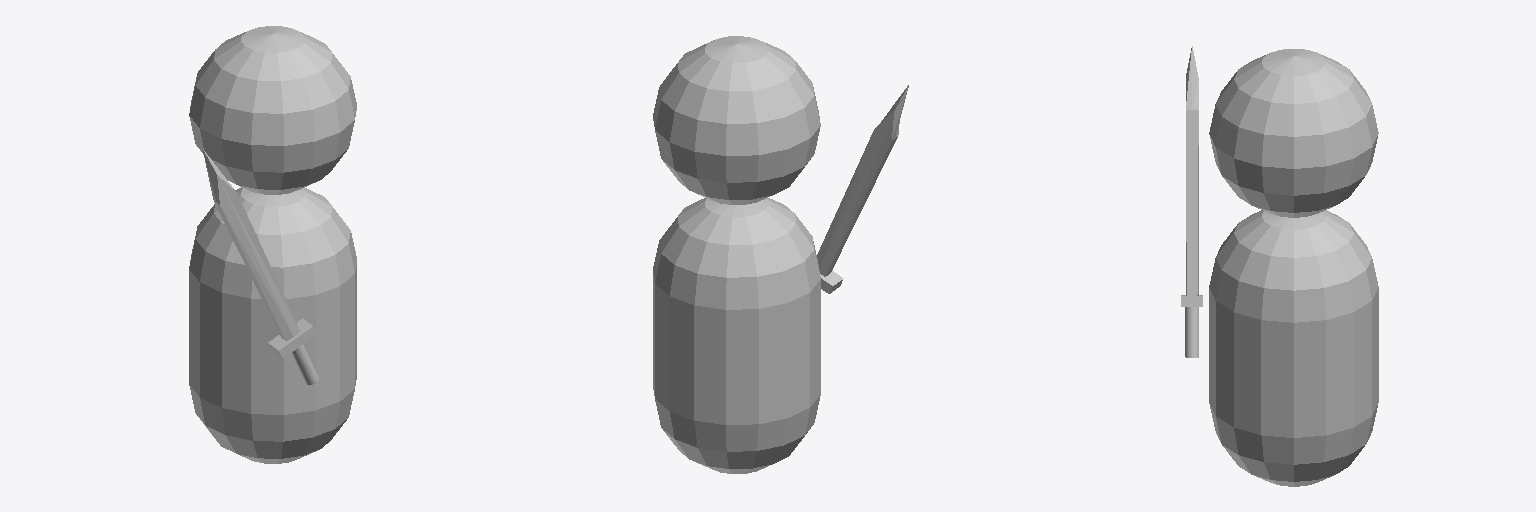
File: sword_guy.obj
The picture shows the model from 3 angles: view 1: azimuth 30°, elevation 25°; view 2: azimuth 150°, elevation 25°; view 3: azimuth 270°, elevation 25°; orthographic projection.
Parts seen in each view (by area): view 1: guy_Sphere, sword_Cylinder; view 2: guy_Sphere, sword_Cylinder; view 3: guy_Sphere, sword_Cylinder.
Boxes of the visible parts, box(x1,y1,x2,y2) form: guy_Sphere: box(189, 26, 356, 463); sword_Cylinder: box(202, 148, 318, 384); guy_Sphere: box(653, 36, 820, 473); sword_Cylinder: box(817, 85, 908, 293); guy_Sphere: box(1209, 49, 1378, 486); sword_Cylinder: box(1181, 46, 1202, 357).
Size of the model in its own units: 2.66 by 5.5 by 2.33.